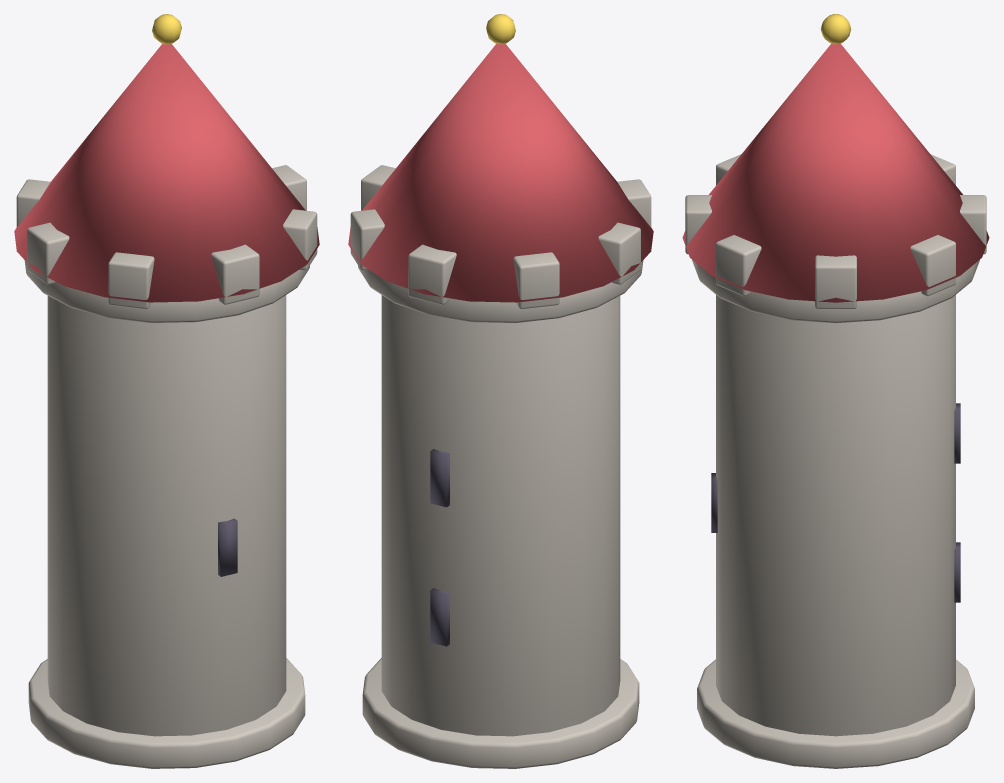
The model's file is KeepTower.fbx.
The picture shows the model from 3 angles, left to right: view 1: azimuth 30°, elevation 25°; view 2: azimuth 150°, elevation 25°; view 3: azimuth 270°, elevation 25°; orthographic projection.
Visible parts, largest first — view 1: KeepTower_Body, KeepTower_Roof, KeepTower_Slits, KeepTower_Finial; view 2: KeepTower_Body, KeepTower_Roof, KeepTower_Slits, KeepTower_Finial; view 3: KeepTower_Body, KeepTower_Roof, KeepTower_Slits, KeepTower_Finial.
Part boxes in pixels (<box>): KeepTower_Body: <box>16,165,317,768</box>; KeepTower_Roof: <box>14,44,319,302</box>; KeepTower_Slits: <box>218,518,237,576</box>; KeepTower_Finial: <box>152,14,181,44</box>; KeepTower_Body: <box>350,165,651,768</box>; KeepTower_Roof: <box>348,44,653,302</box>; KeepTower_Slits: <box>430,449,449,646</box>; KeepTower_Finial: <box>486,14,515,44</box>; KeepTower_Body: <box>685,154,986,768</box>; KeepTower_Roof: <box>682,43,989,302</box>; KeepTower_Slits: <box>711,403,960,602</box>; KeepTower_Finial: <box>820,14,851,44</box>.
Size of the model in its own units: 320 by 801 by 320.
